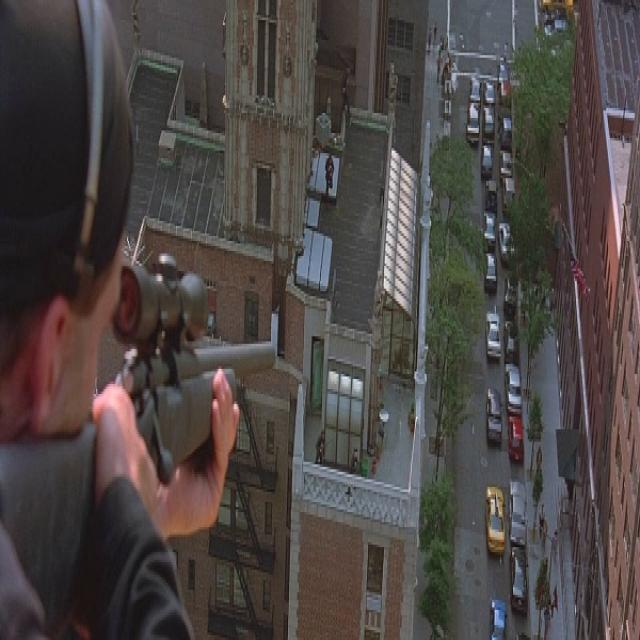rifle: (1, 247, 282, 637)
